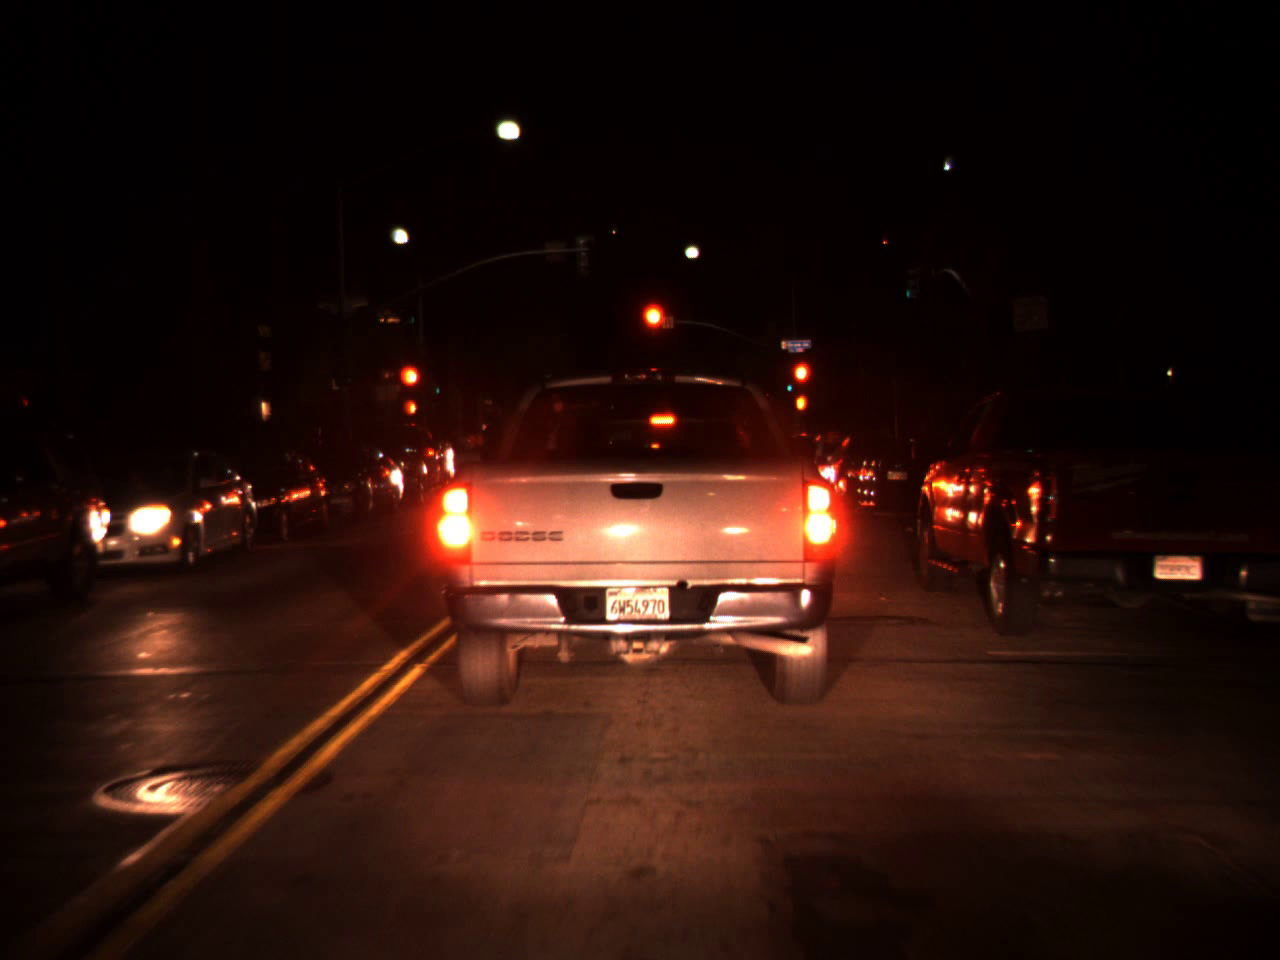stop: (639, 299, 669, 361), (396, 363, 423, 411), (790, 359, 814, 407)
